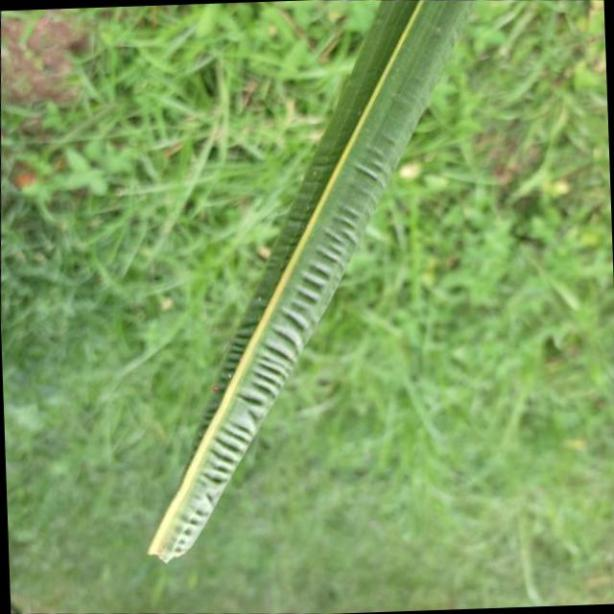Boron: (141, 0, 470, 568)
